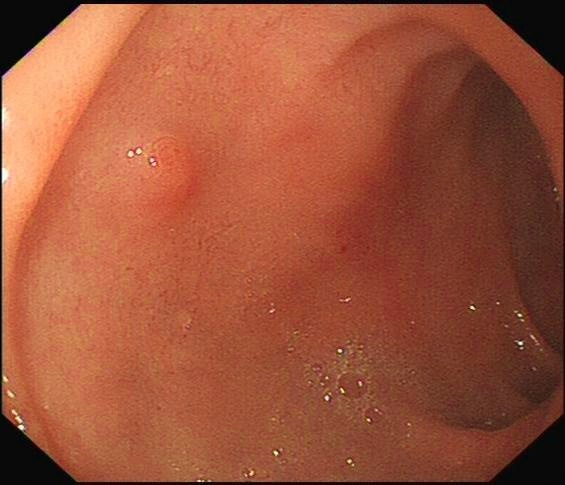Polyp: (119, 122, 197, 220)
